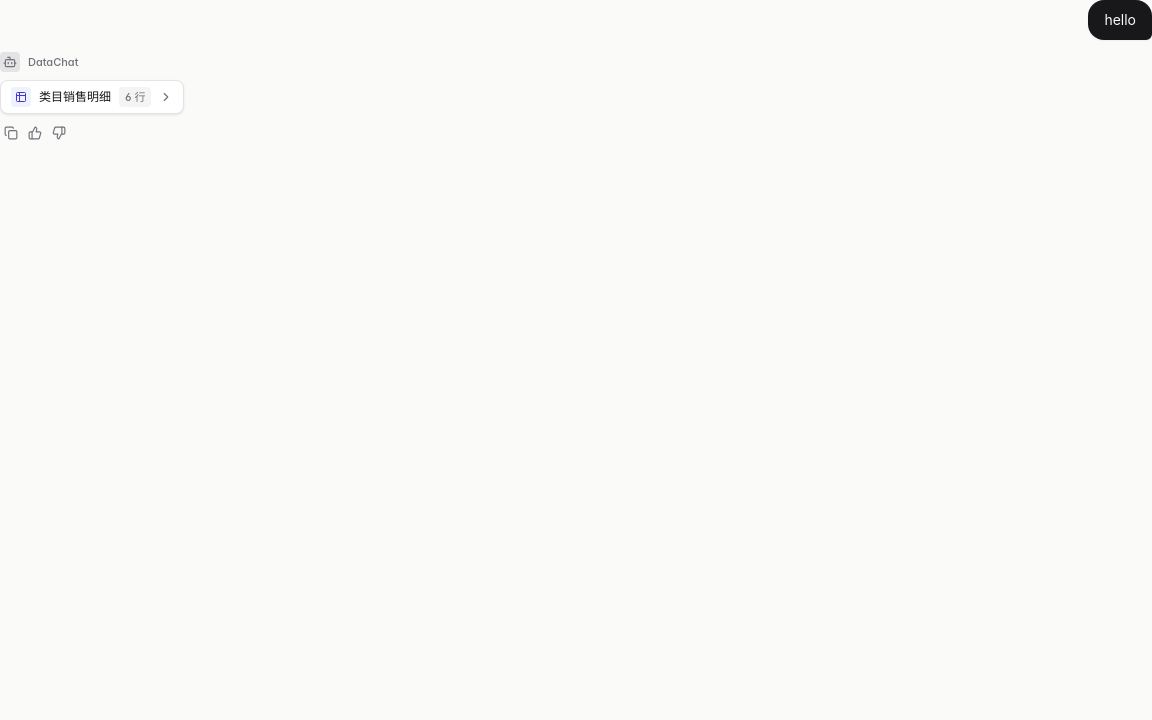
Test: MessageItem › uses an explicit result label on the chip and detail dialog title
Click the button "类目销售明细 6 行".
click(92, 97)  # box [0, 80, 184, 114]
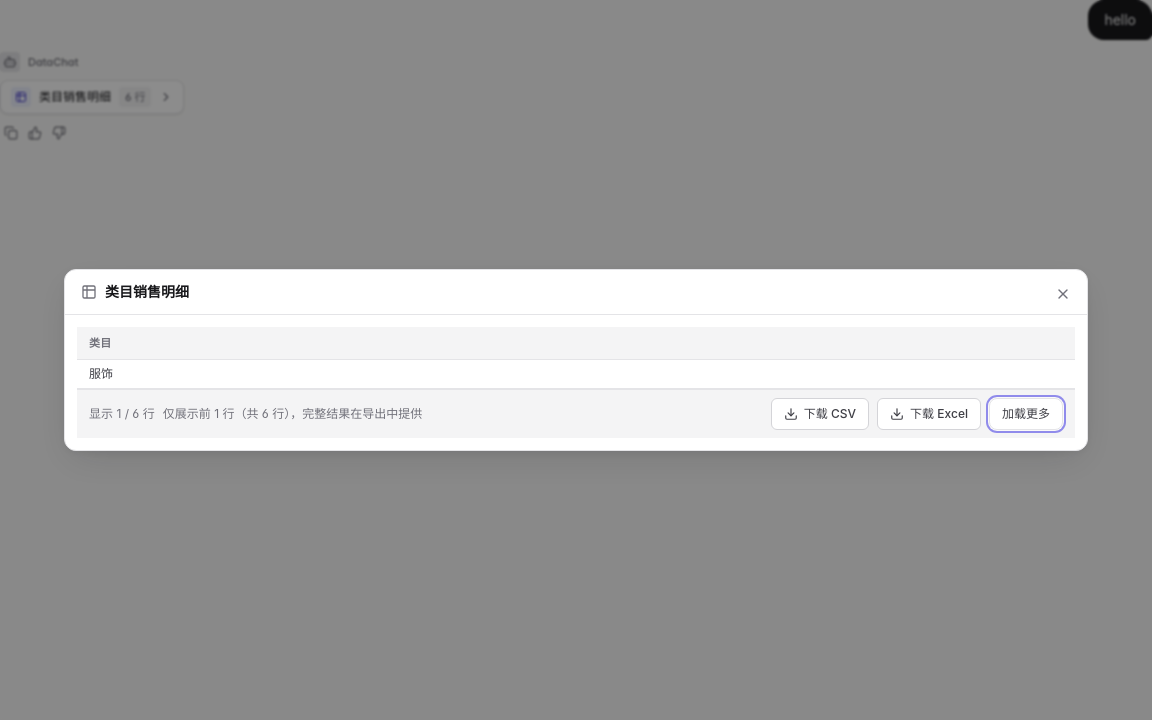
Result: the dialog is shown at [64, 269, 1088, 451]
Result: the heading "类目销售明细" is shown at [105, 282, 189, 302]
